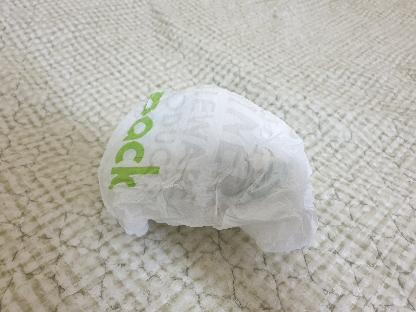Plastic Bag: (92, 79, 326, 259)
